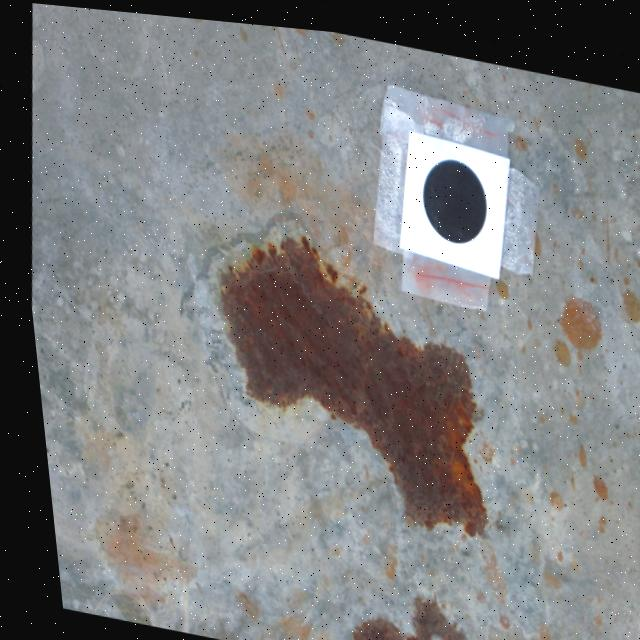corrosion: (181, 209, 507, 539), (331, 573, 459, 640)
